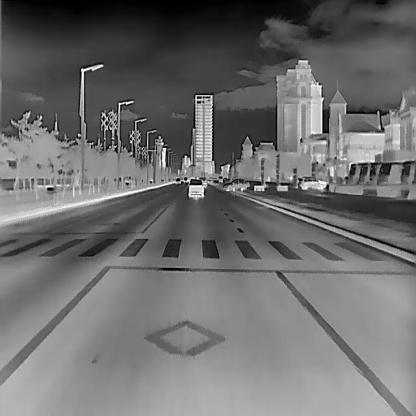car: (296, 175, 324, 189), (188, 178, 204, 198), (223, 178, 248, 190), (199, 176, 206, 188), (218, 174, 224, 183), (175, 177, 181, 184)
